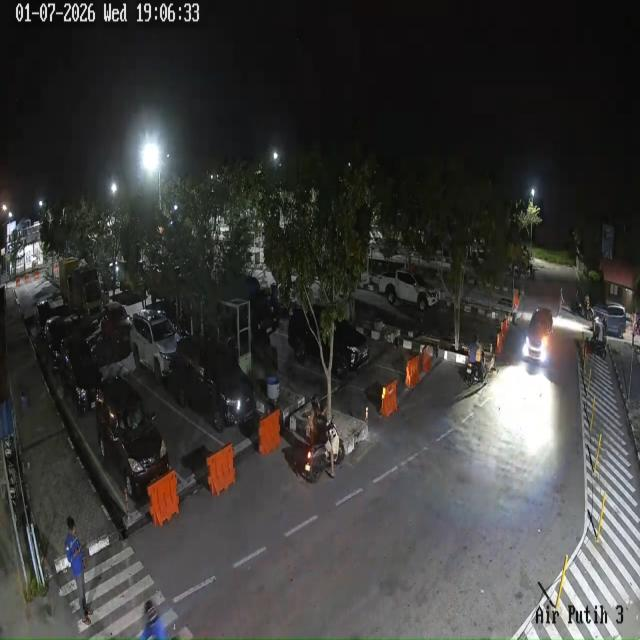Golongan IVA: (96, 376, 169, 497), (170, 336, 256, 433), (288, 305, 369, 380), (130, 309, 178, 383), (60, 336, 102, 414), (522, 308, 554, 362), (44, 316, 68, 371), (100, 301, 130, 343)
Golongan IVB: (378, 270, 439, 311)
Golongan VB: (59, 258, 108, 319)
